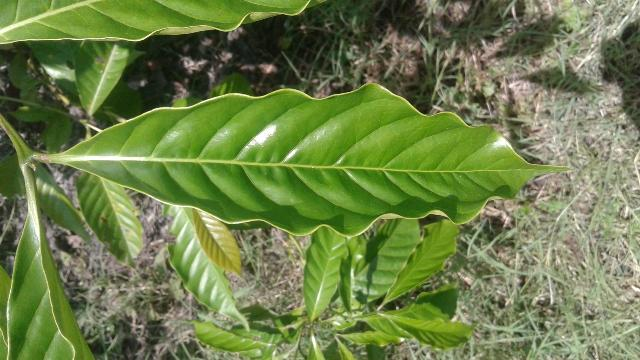healthy: (55, 80, 570, 237)
